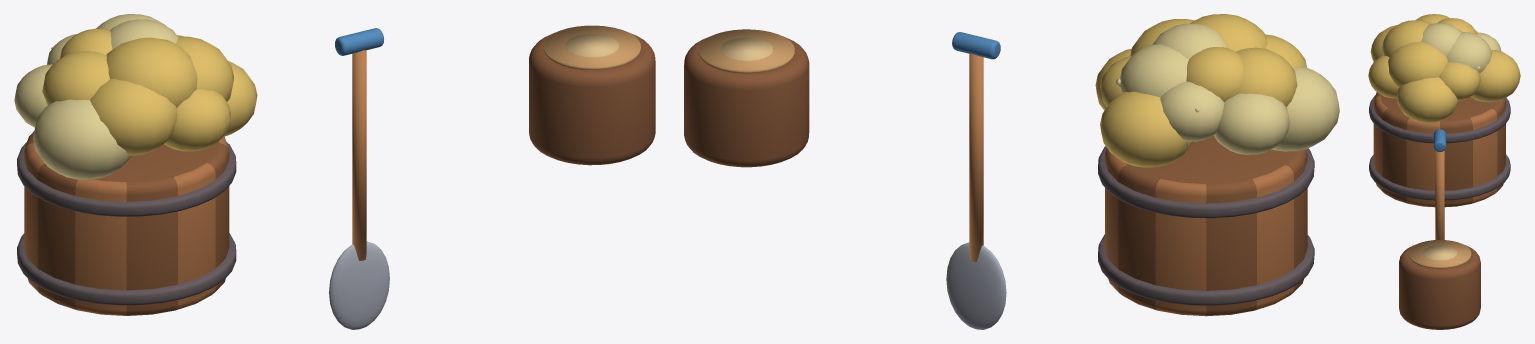
File: style_C.glb
3 renders of one model, left to right at view 1: azimuth 30°, elevation 25°; view 2: azimuth 150°, elevation 25°; view 3: azimuth 270°, elevation 25°, orthographic. The views are drawn at different scales.
Parts seen in each view (by area): view 1: StyleC_HayBarrel, StyleC_Log, StyleC_Shovel; view 2: StyleC_HayBarrel, StyleC_Log, StyleC_Shovel; view 3: StyleC_HayBarrel, StyleC_Log, StyleC_Shovel.
Part boxes in pixels (<box>): StyleC_HayBarrel: <box>14,14,257,315</box>; StyleC_Log: <box>529,25,655,165</box>; StyleC_Shovel: <box>329,28,389,329</box>; StyleC_HayBarrel: <box>1095,14,1339,316</box>; StyleC_Log: <box>684,29,809,167</box>; StyleC_Shovel: <box>946,32,1006,329</box>; StyleC_HayBarrel: <box>1368,14,1520,207</box>; StyleC_Log: <box>1399,240,1480,329</box>; StyleC_Shovel: <box>1433,129,1446,239</box>.
Size of the model in its own units: 2.97 by 1.62 by 0.9679.
